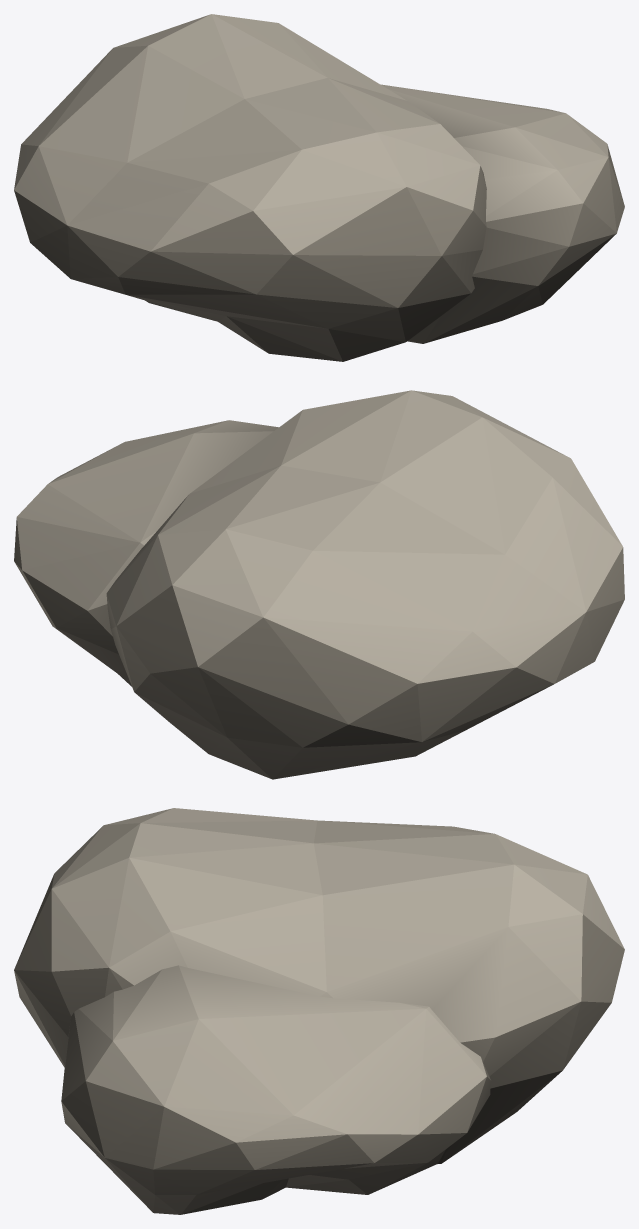
The model's file is rock_small_b.glb.
3 views of the same model, one above another, from view 1: azimuth 30°, elevation 25°; view 2: azimuth 150°, elevation 25°; view 3: azimuth 270°, elevation 25° (orthographic). The views are drawn at different scales.
Parts seen in each view (by area): view 1: Body; view 2: Body; view 3: Body.
Boxes of the visible parts, x1,y1,x2,y2 form: Body: (14, 14, 624, 361); Body: (14, 390, 624, 779); Body: (14, 808, 624, 1214).
Bounding box in the file's own units: 0.4056 × 0.1692 × 0.361.
1 material, 1 textured.
